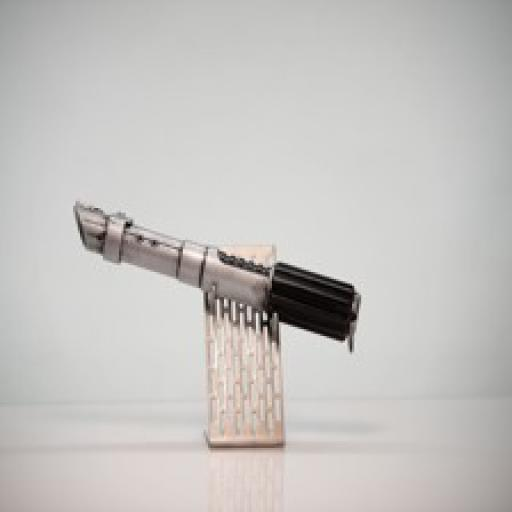lightsaber: (67, 196, 364, 348)
